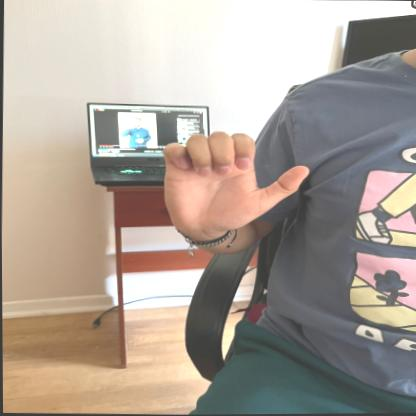E: (155, 126, 312, 230)
